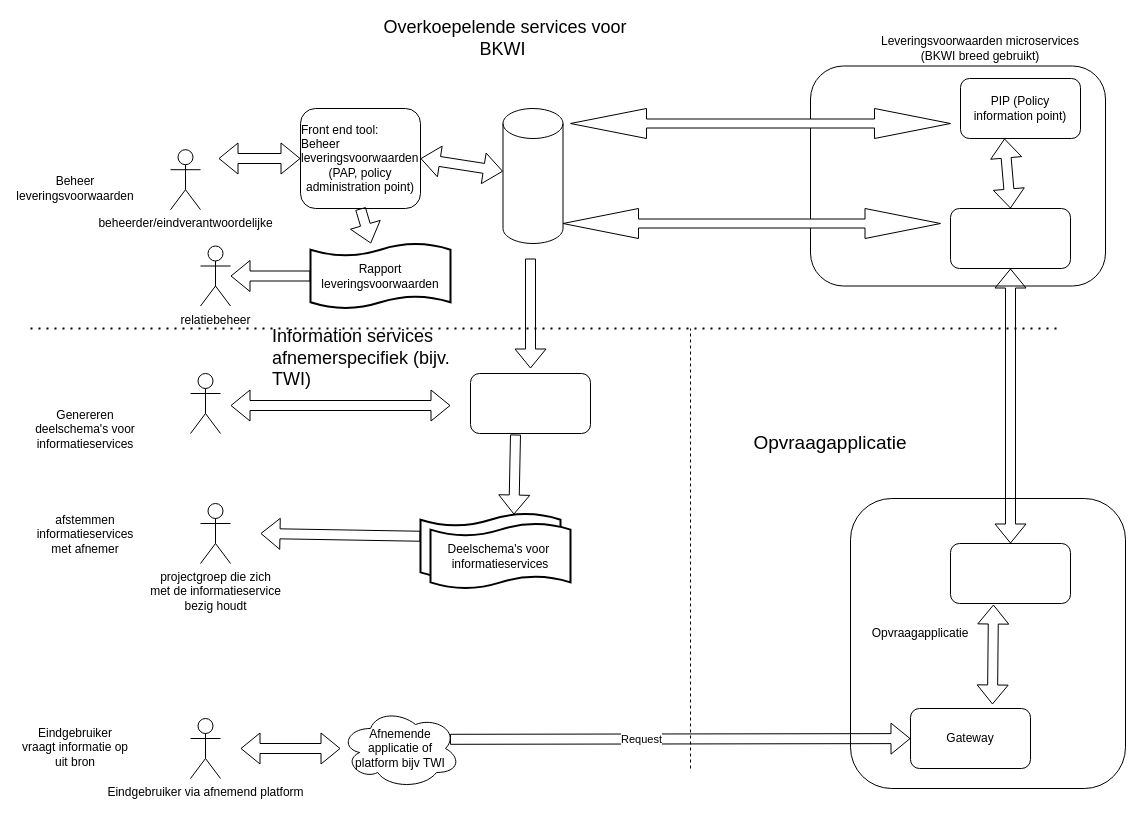
Some shapes in this 1143 by 817 pixel diagram are drawn without their labels. Each missing label, with the centre of its shape:
beheerder: the point at 205,403
GenereerTool Deelschema informatieservice: the point at 530,403
Leveringsvoorwaarden repository (PRP, policy registration point ): the point at 532,176
PDP (policy decision point): the point at 1010,238
policy enforcement point (PEP): the point at 1010,573
